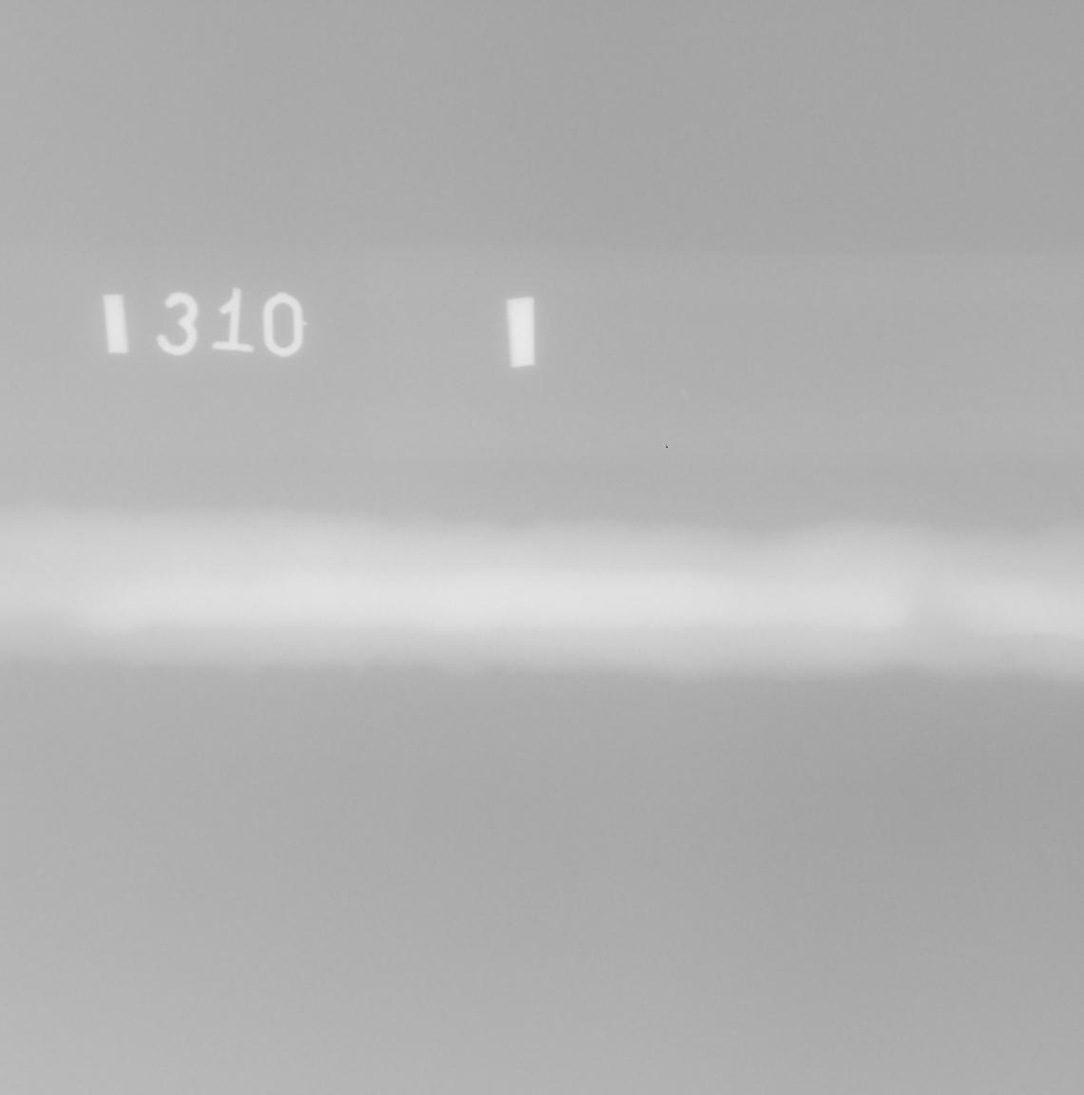Pore/Porosity: (1005, 650, 1013, 658), (264, 561, 268, 564)
